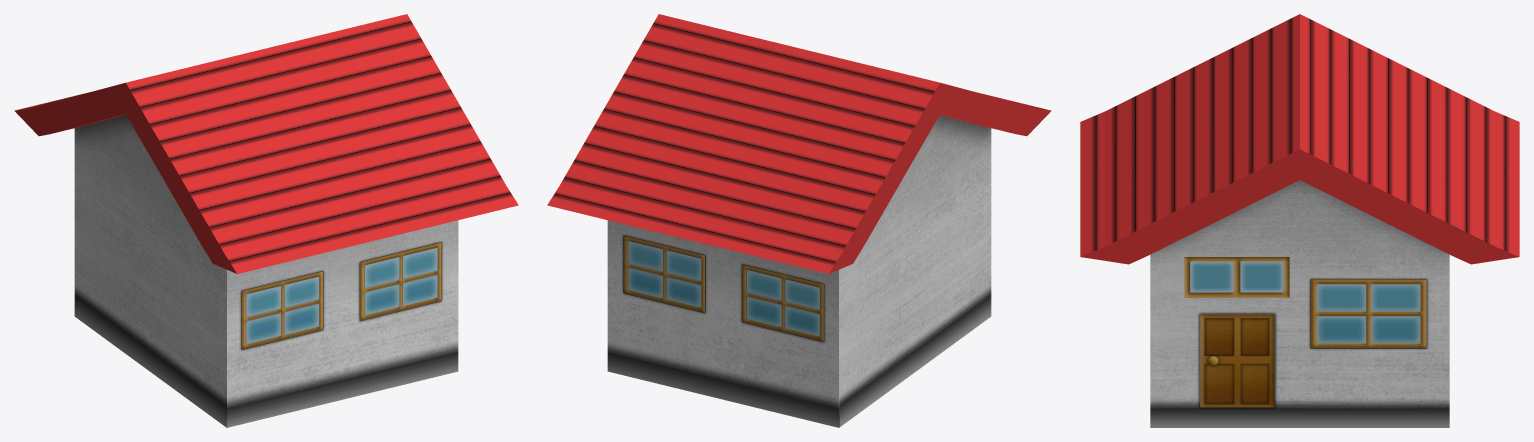
Rendered from house.fbx.
The picture shows the model from 3 angles, left to right: view 1: azimuth 30°, elevation 25°; view 2: azimuth 150°, elevation 25°; view 3: azimuth 270°, elevation 25°; orthographic projection.
Parts seen in each view (by area): view 1: polySurface3; view 2: polySurface3; view 3: polySurface3.
Boxes of the visible parts, left/top/right/bottom form: polySurface3: left=14, top=14, right=518, bottom=427; polySurface3: left=547, top=14, right=1051, bottom=427; polySurface3: left=1080, top=14, right=1519, bottom=427.
Size of the model in its own units: 3.75 by 3.77 by 5.16.
1 material, 1 textured.
